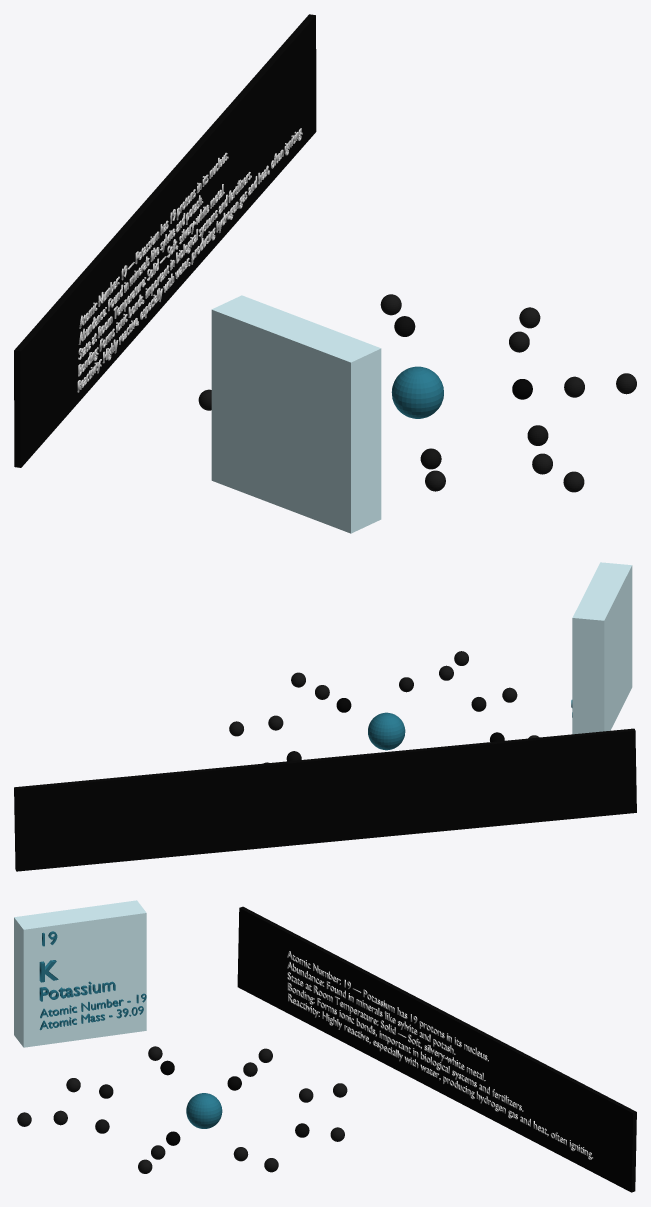
Rendered from Potassium final .fbx.
The picture shows the model from 3 angles, top to bottom: view 1: azimuth 30°, elevation 25°; view 2: azimuth 150°, elevation 25°; view 3: azimuth 270°, elevation 25°; orthographic projection. The views are drawn at different scales.
Visible parts, largest first — view 1: Cube.001, Cube, Text.003, Sphere.012; view 2: Cube.001, Cube, Sphere.012; view 3: Cube.001, Cube, Text.003, Text.002, Sphere.012, Text.001.
Boxes of the visible parts, <box> form: Cube.001: <box>14,14,316,467</box>; Cube: <box>211,295,381,533</box>; Text.003: <box>77,128,302,392</box>; Sphere.012: <box>391,366,443,418</box>; Cube.001: <box>14,728,636,871</box>; Cube: <box>572,562,632,734</box>; Sphere.012: <box>368,712,405,750</box>; Cube.001: <box>237,906,636,1192</box>; Cube: <box>14,900,146,1047</box>; Text.003: <box>287,951,592,1159</box>; Text.002: <box>39,993,146,1030</box>; Sphere.012: <box>186,1093,222,1128</box>; Text.001: <box>39,931,115,1001</box>.
Bounding box in the file's own units: 1289 × 431 × 1722.
